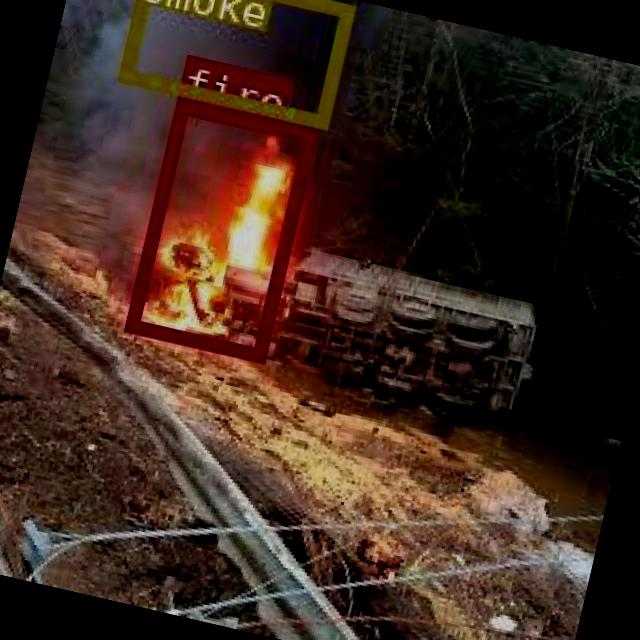fire: (124, 98, 314, 360)
smoke: (115, 0, 353, 125)
